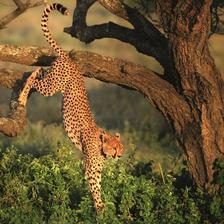Cheetah: (18, 0, 127, 224)
